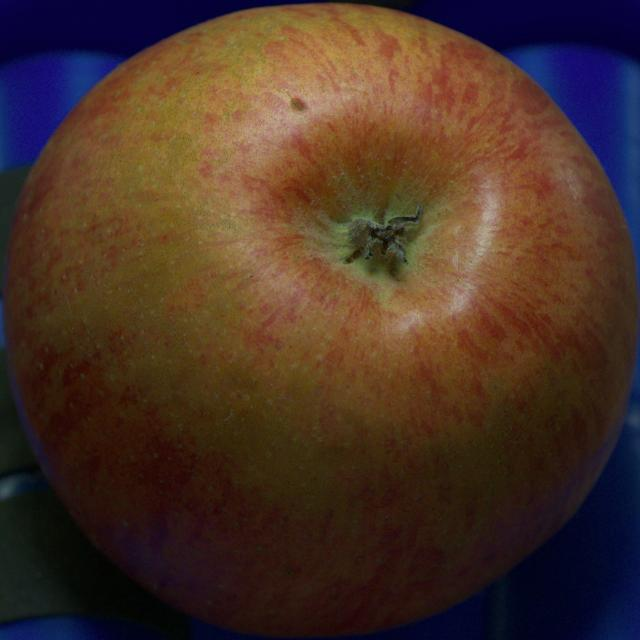apple: (2, 4, 638, 635)
pest: (291, 98, 305, 110)
